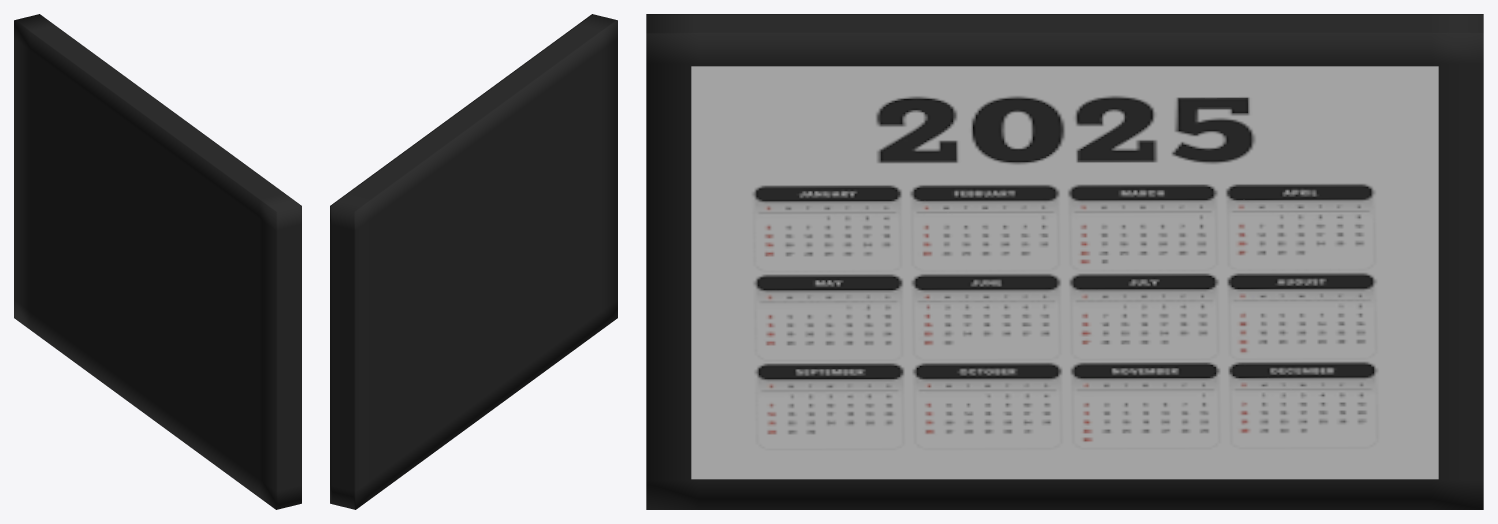
Rendered from calendario-digit.fbx.
3 views of the same model, side by side, from view 1: azimuth 30°, elevation 25°; view 2: azimuth 150°, elevation 25°; view 3: azimuth 270°, elevation 25° (orthographic). The views are drawn at different scales.
Parts seen in each view (by area): view 1: calendario; view 2: calendario; view 3: calendario.
Boxes of the visible parts, x1,y1,x2,y2 form: calendario: (14,14,301,509); calendario: (330,14,617,509); calendario: (646,14,1483,509).
Size of the model in its own units: 19.45 by 204 by 326.
Materials: 2 (1 with a texture image).
